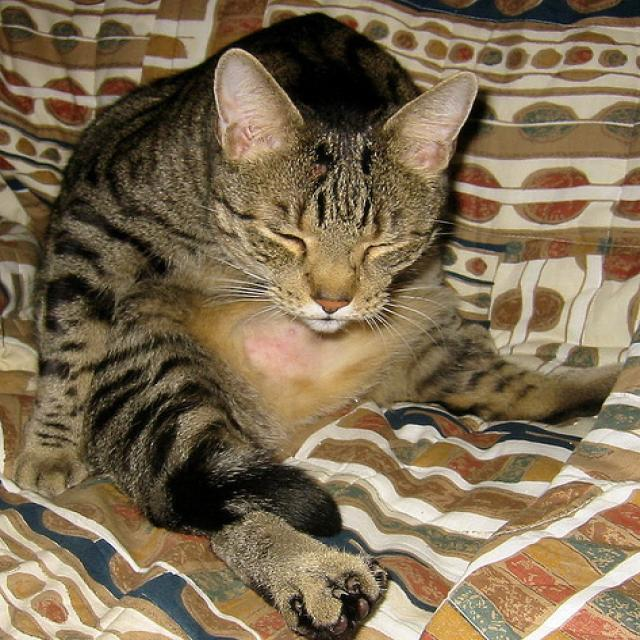cat: (43, 22, 552, 610)
